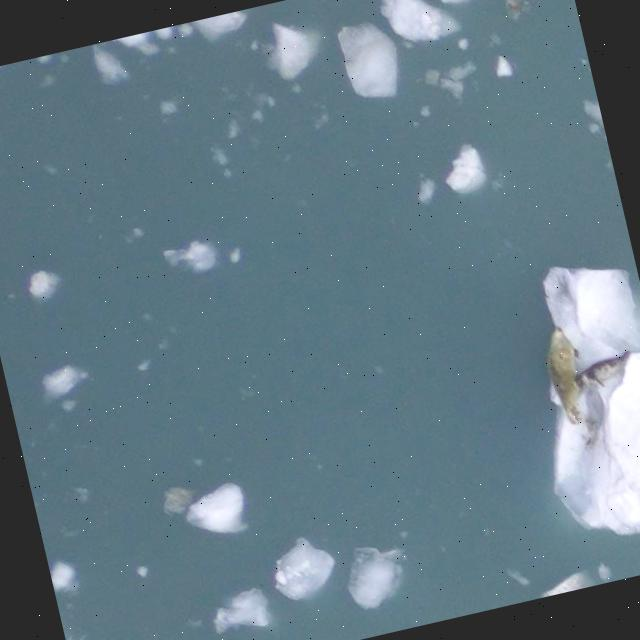seal: (541, 326, 589, 425), (573, 350, 637, 393)
